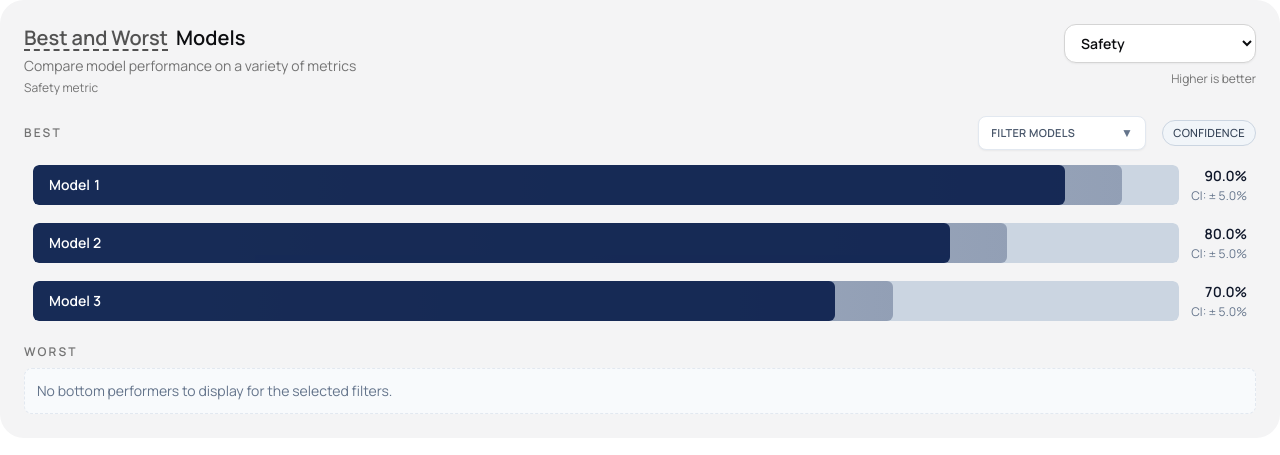
BarChartCard › filters by selected models
Click the text "Filter models": (1033, 133) top-left (991, 125), bottom-right (1075, 141)
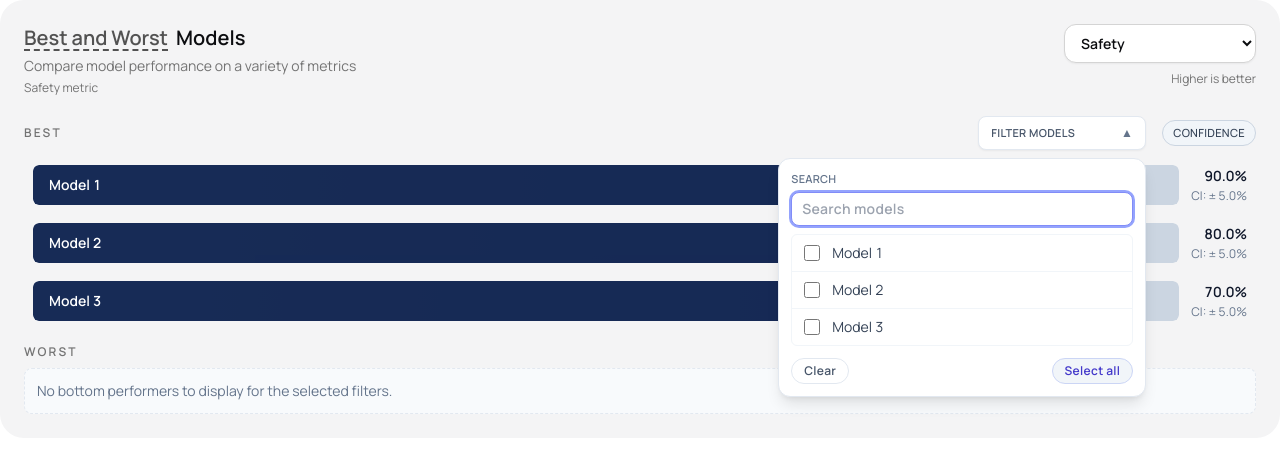
Result: the search field with placeholder "Search models" is shown at top-left (791, 192), bottom-right (1133, 226)
